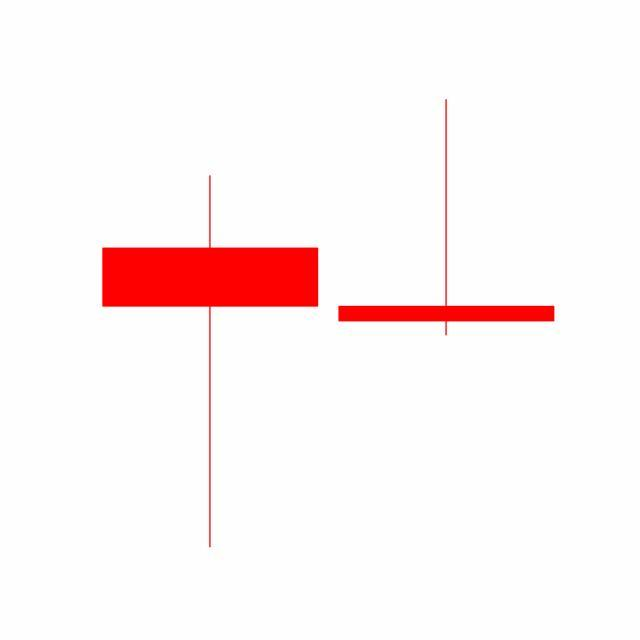Gravestone Doji: (328, 97, 566, 339)
